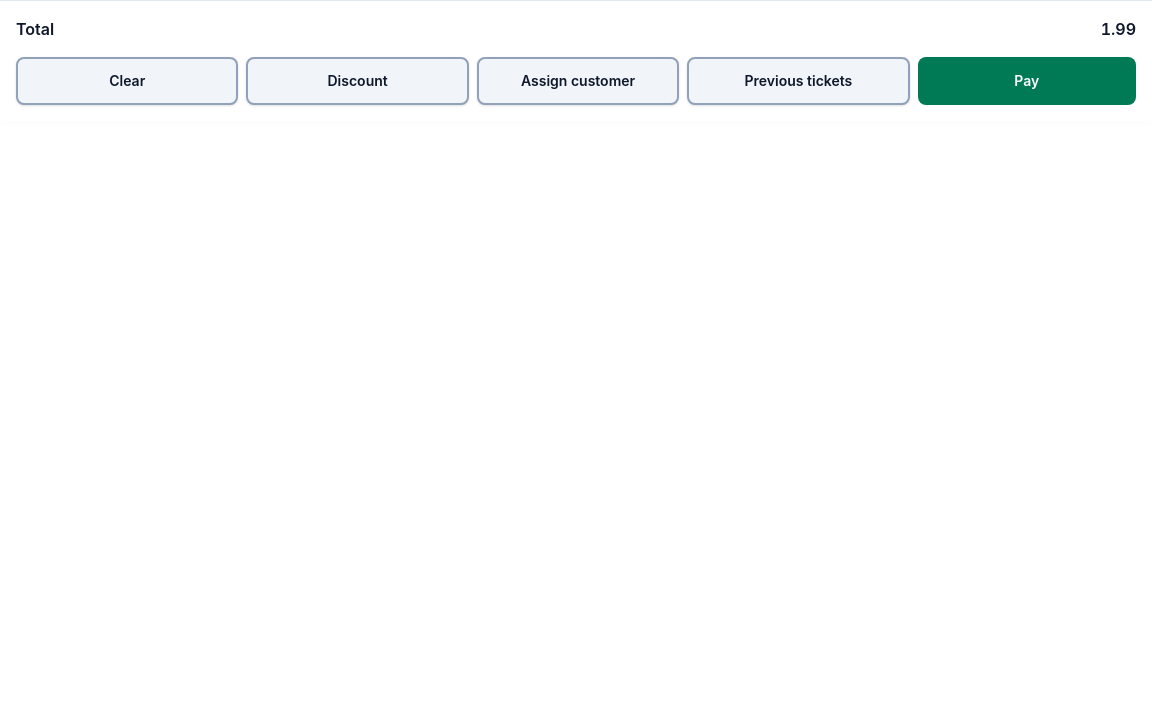
Test: CheckoutFooter › opens previous tickets modal
Click the button with test id "open-previous-tickets" at (798, 81), box [687,57,910,105]
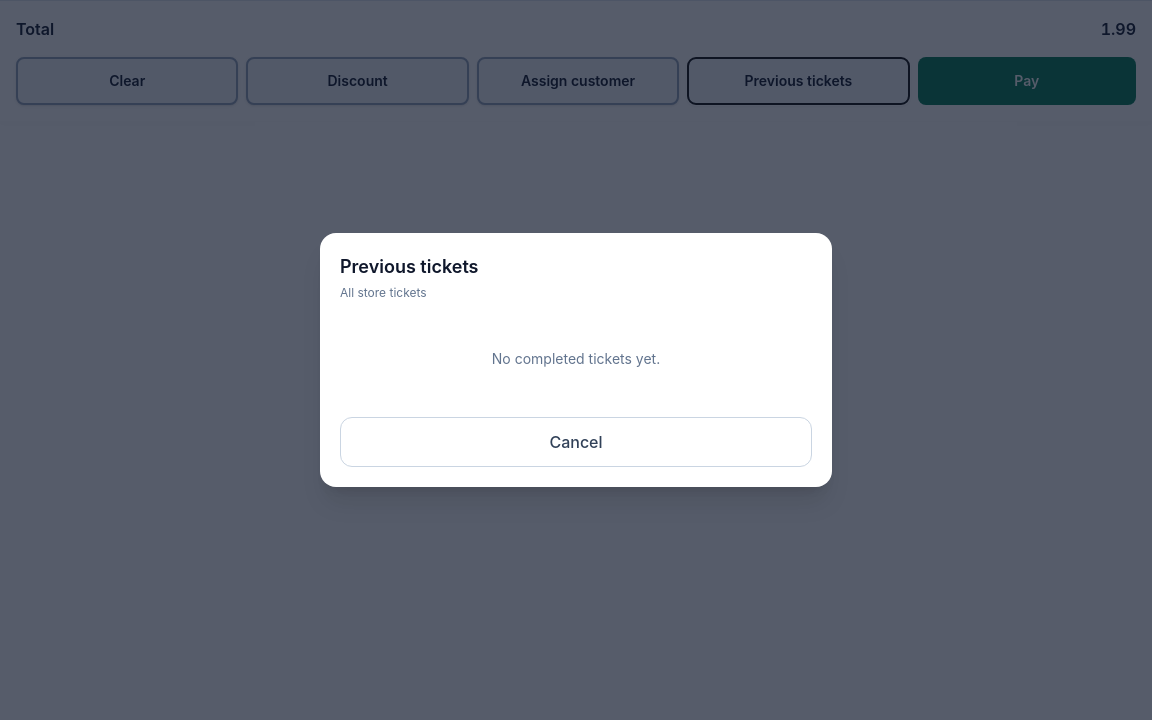
Check: the dialog with test id "closed-tickets-modal" is shown
